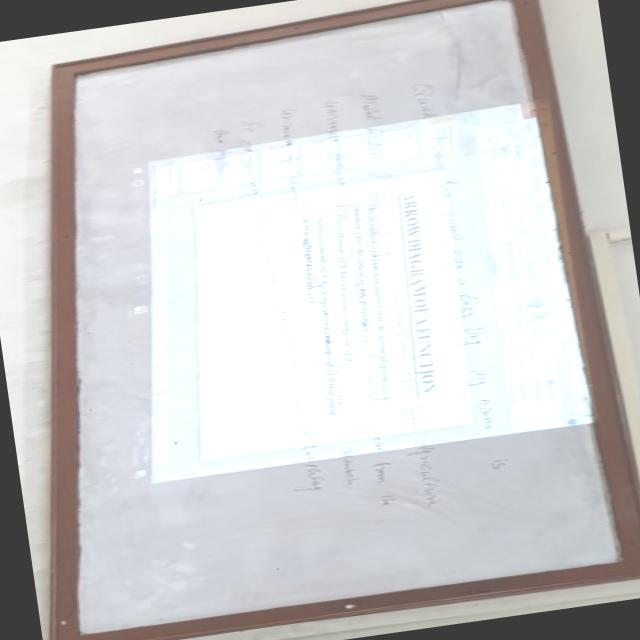Slide: (125, 100, 592, 490)
White-board: (56, 0, 640, 640)
